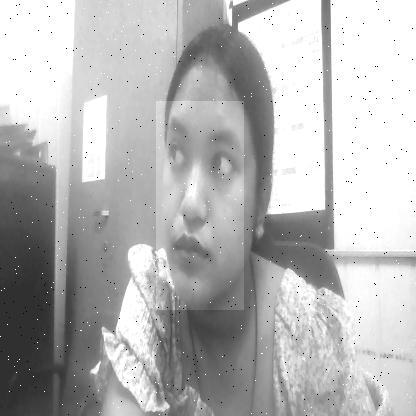Distracted: (156, 101, 244, 310)
